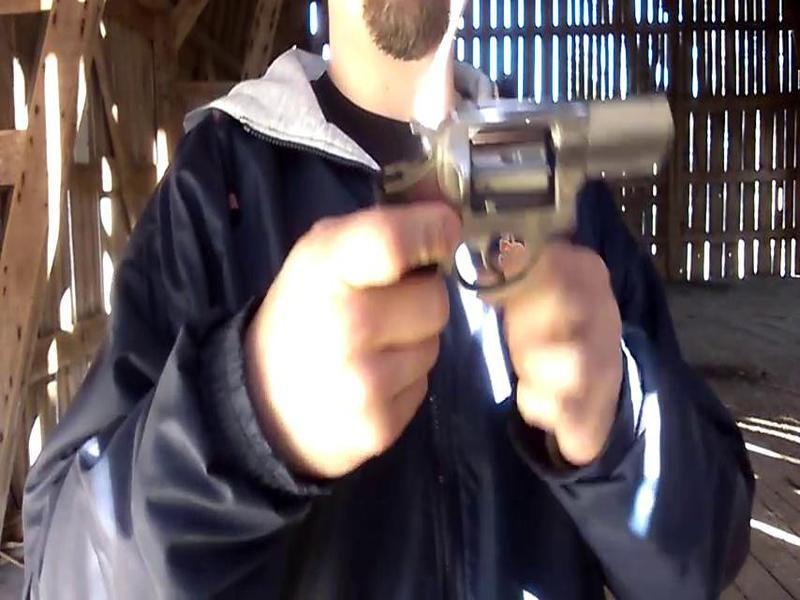Revolver: (347, 69, 691, 335)
